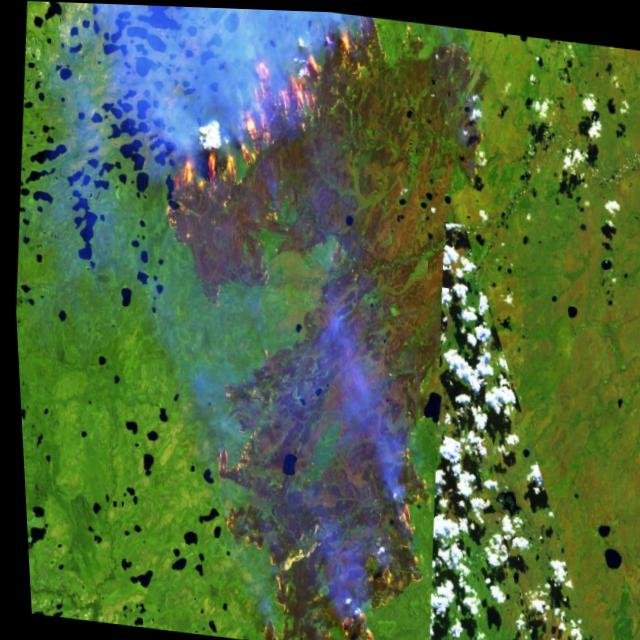fire: (99, 3, 476, 640)
